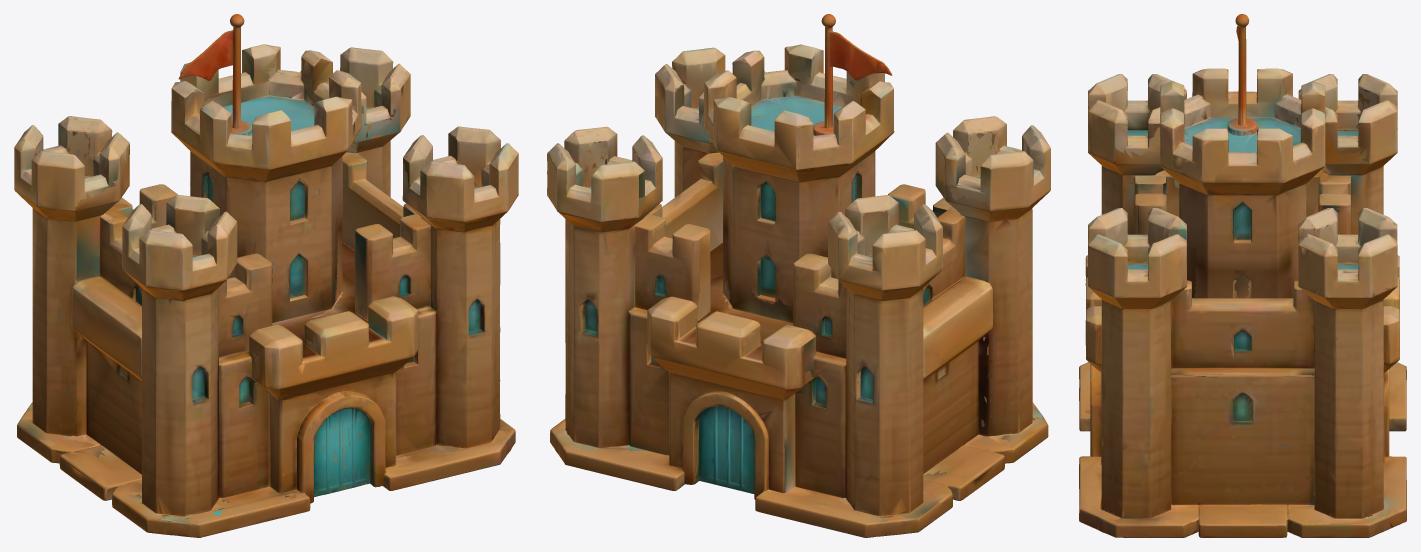
The model's file is castle-6JhWMXoS.glb.
The picture shows the model from 3 angles, left to right: view 1: azimuth 30°, elevation 25°; view 2: azimuth 150°, elevation 25°; view 3: azimuth 270°, elevation 25°; orthographic projection. The views are drawn at different scales.
Parts seen in each view (by area): view 1: texture_pbr_v128; view 2: texture_pbr_v128; view 3: texture_pbr_v128.
Boxes of the visible parts, x1=… form: texture_pbr_v128: x1=14, y1=14, x2=518, y2=537; texture_pbr_v128: x1=547, y1=14, x2=1050, y2=537; texture_pbr_v128: x1=1079, y1=14, x2=1406, y2=537.
Bounding box in the file's own units: 0.7508 × 0.8322 × 0.5861.
Materials: 1 (1 with a texture image).
